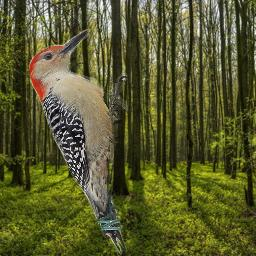Woodpecker: (29, 27, 128, 256)
